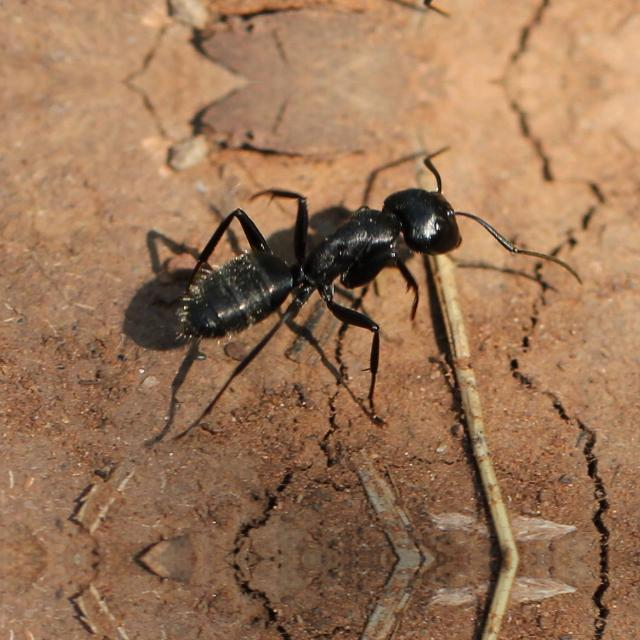Camponotus: (150, 108, 510, 418)
